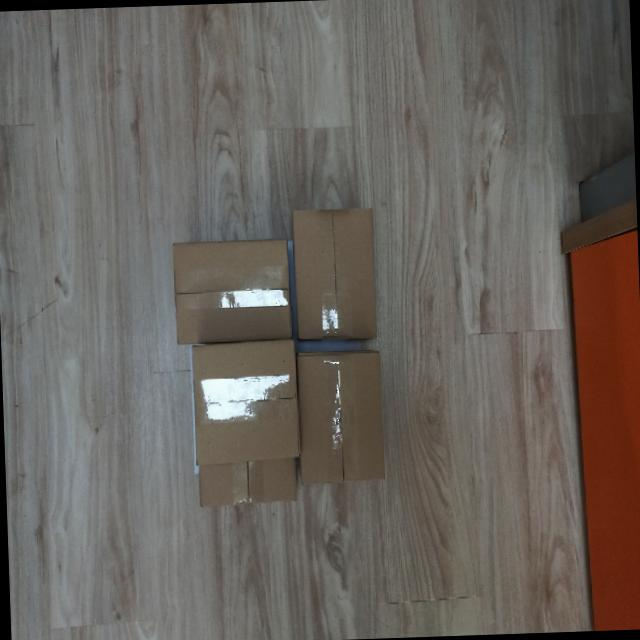box: (187, 338, 304, 463), (168, 232, 294, 346), (285, 201, 383, 345), (295, 346, 390, 486)
